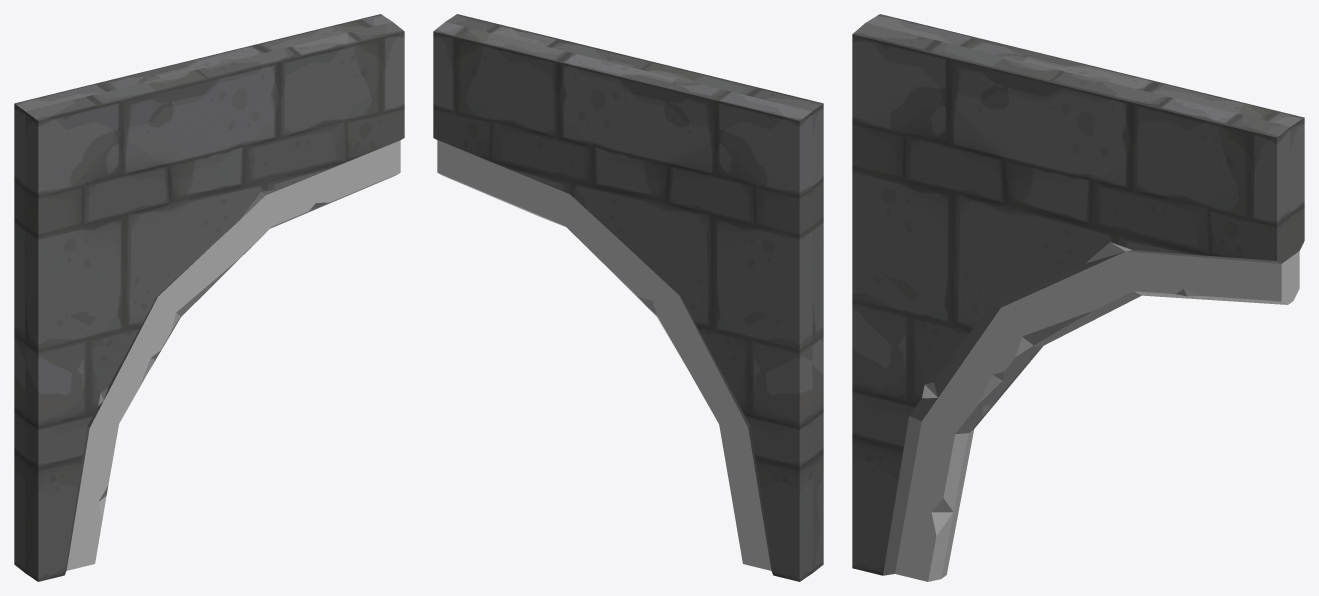
Rendered from SM_Bld_Bridge_L_End_01.fbx.
The picture shows the model from 3 angles, left to right: view 1: azimuth 30°, elevation 25°; view 2: azimuth 150°, elevation 25°; view 3: azimuth 330°, elevation 25°; orthographic projection. The views are drawn at different scales.
Visible parts, largest first — view 1: SM_Bld_Bridge_L_End_01; view 2: SM_Bld_Bridge_L_End_01; view 3: SM_Bld_Bridge_L_End_01.
Boxes of the visible parts, <box> form: SM_Bld_Bridge_L_End_01: <box>14,14,404,581</box>; SM_Bld_Bridge_L_End_01: <box>433,14,823,581</box>; SM_Bld_Bridge_L_End_01: <box>852,14,1304,581</box>.
Size of the model in its own units: 500 by 601 by 56.54.
